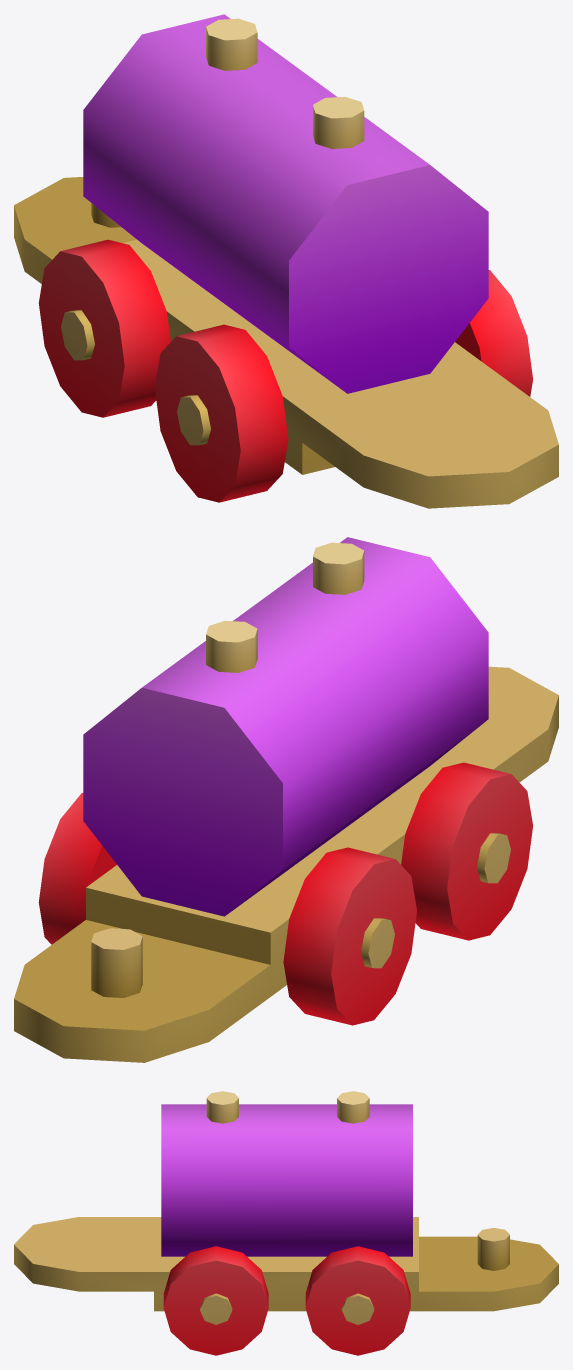
Rendered from trainTrailer_1.fbx.
3 renders of one model, top to bottom at view 1: azimuth 30°, elevation 25°; view 2: azimuth 150°, elevation 25°; view 3: azimuth 270°, elevation 25°, orthographic. The views are drawn at different scales.
Visible parts, largest first — view 1: trainTrailer_1; view 2: trainTrailer_1; view 3: trainTrailer_1.
Boxes of the visible parts, x1,y1,x2,y2 form: trainTrailer_1: [14, 14, 558, 508]; trainTrailer_1: [14, 537, 558, 1062]; trainTrailer_1: [14, 1091, 558, 1355].
Bounding box in the file's own units: 9.79 × 10.66 × 24.59.
